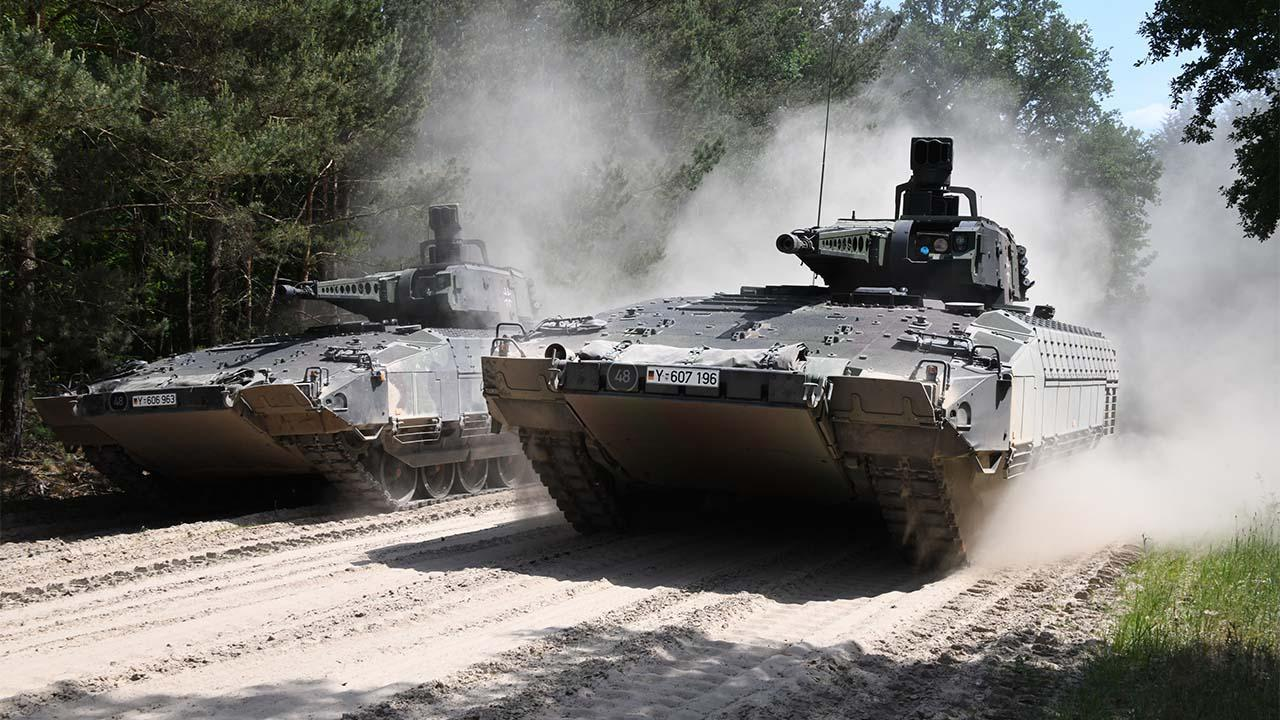MIL_IFV: (487, 137, 1121, 573), (35, 203, 550, 514)
